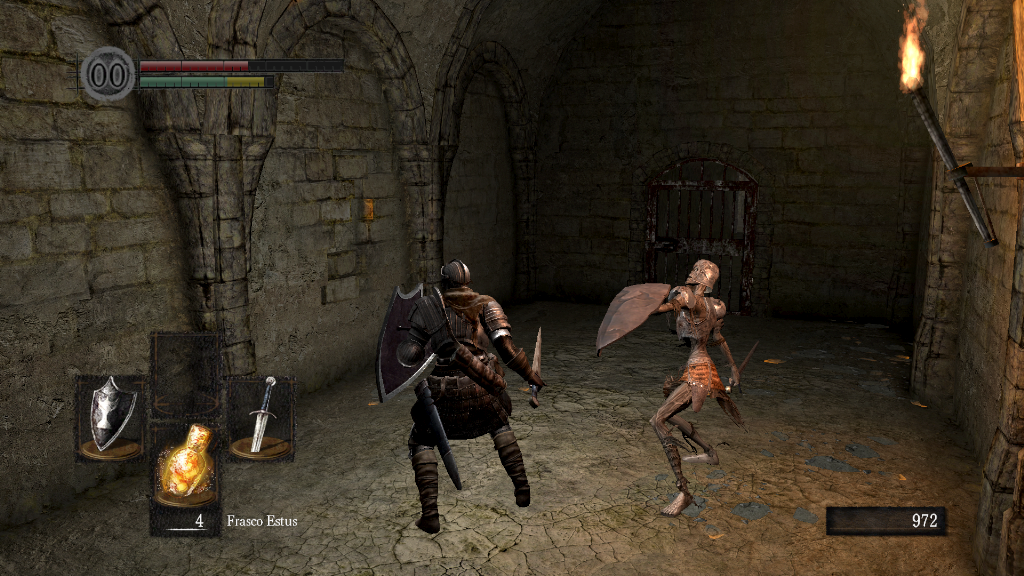health: (138, 58, 343, 71)
humanity: (80, 45, 136, 102)
player: (376, 257, 546, 535)
souls: (825, 506, 945, 536)
stamina: (138, 74, 274, 88)
undeadSoldier: (648, 259, 739, 514)
